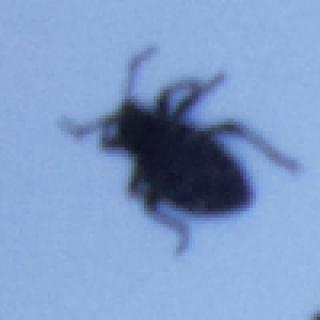bvw: (59, 43, 302, 257)
